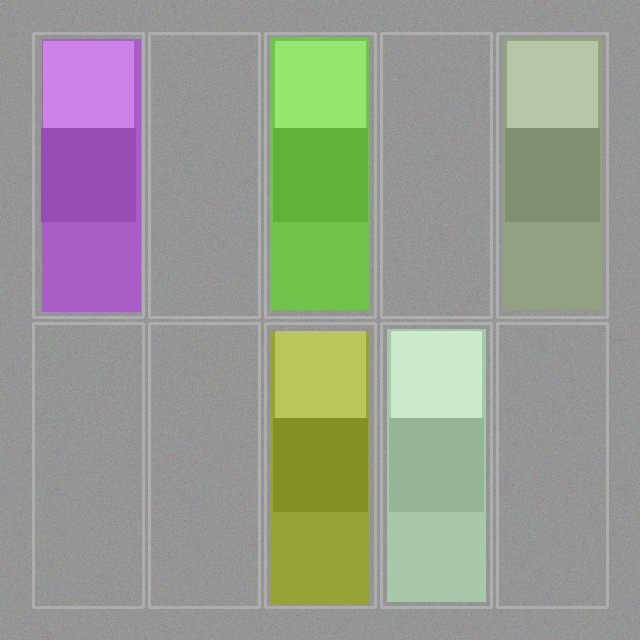space-empty: (151, 35, 257, 315), (383, 35, 489, 315), (35, 325, 141, 605), (151, 325, 257, 605), (499, 325, 605, 605)
space-occupied: (35, 35, 141, 315), (267, 35, 373, 315), (499, 35, 605, 315), (267, 325, 373, 605), (383, 325, 489, 605)
